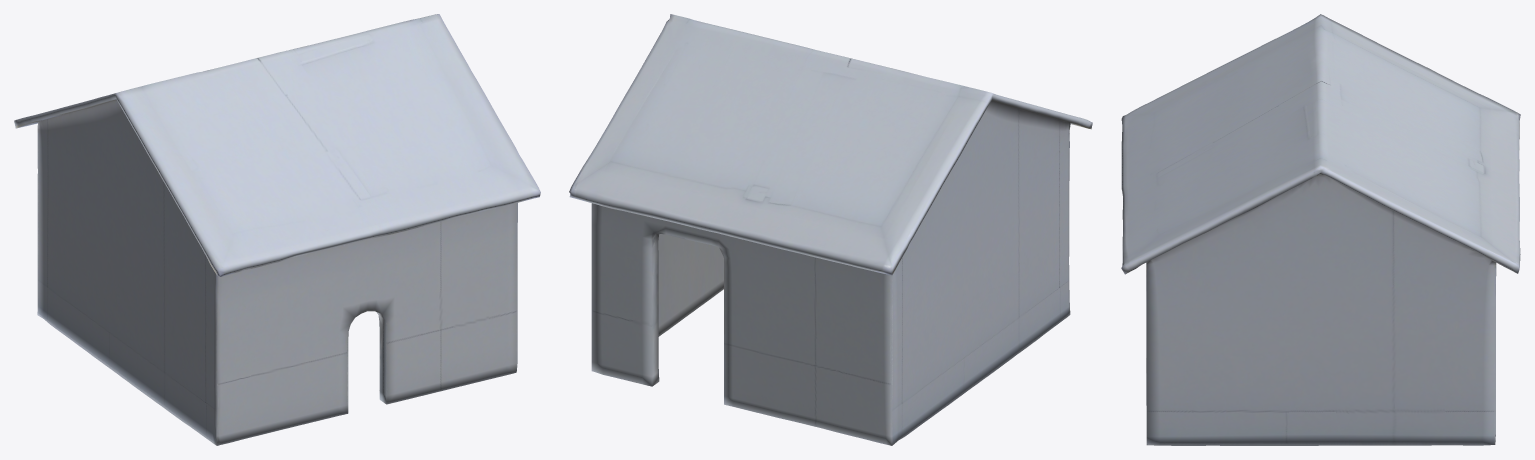
The model's file is house.glb.
The picture shows the model from 3 angles, left to right: view 1: azimuth 30°, elevation 25°; view 2: azimuth 150°, elevation 25°; view 3: azimuth 270°, elevation 25°; orthographic projection. The views are drawn at different scales.
Size of the model in its own units: 1.83 by 1.57 by 2.
1 material, 1 textured.
